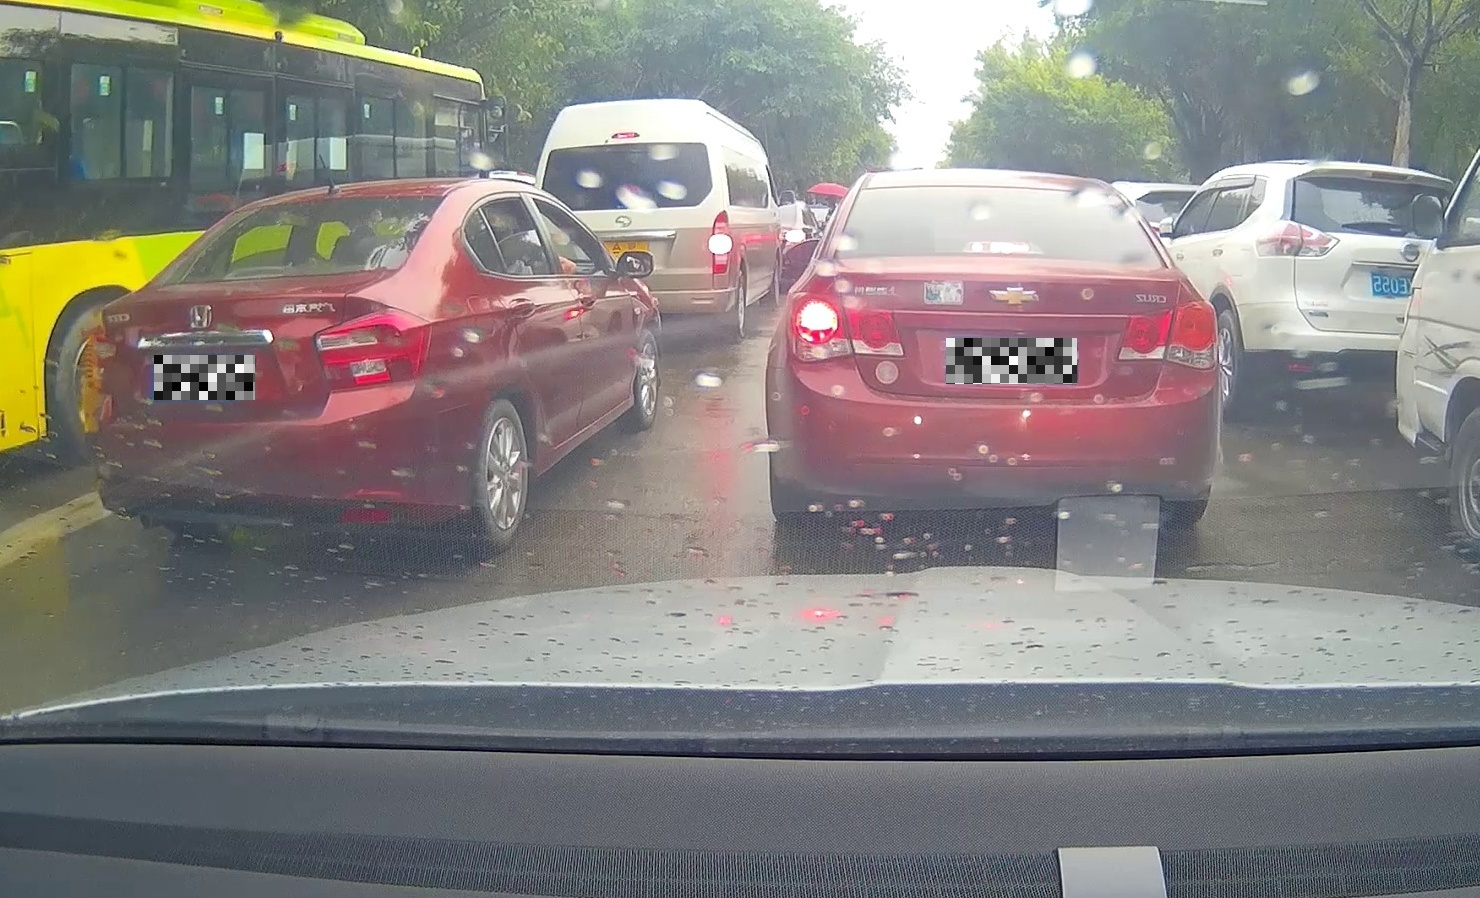L_light: (785, 293, 906, 363), (93, 333, 122, 395)
R_light: (313, 307, 432, 391), (1115, 300, 1217, 371)
T_light: (960, 241, 1046, 256), (222, 265, 289, 281)
day-left: (765, 168, 1221, 529)
day-no: (93, 178, 461, 556)
plate_1: (154, 355, 255, 400)
plate_2: (946, 338, 1077, 384)
